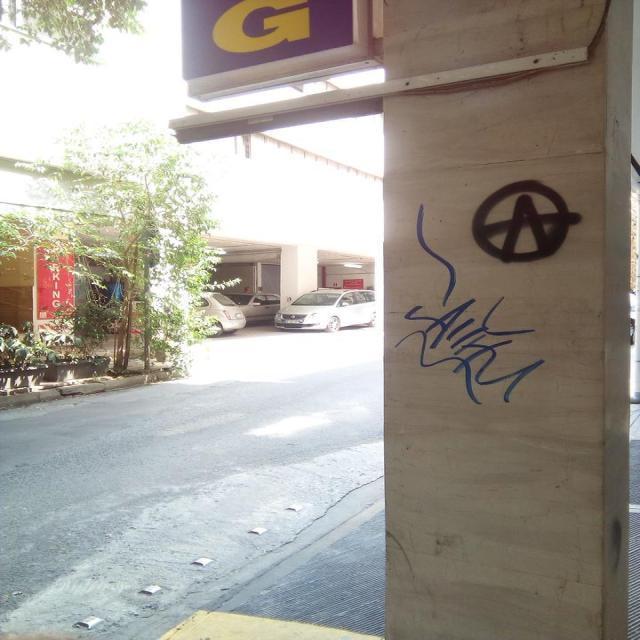nonspitting: (396, 204, 544, 406), (472, 180, 580, 264)
